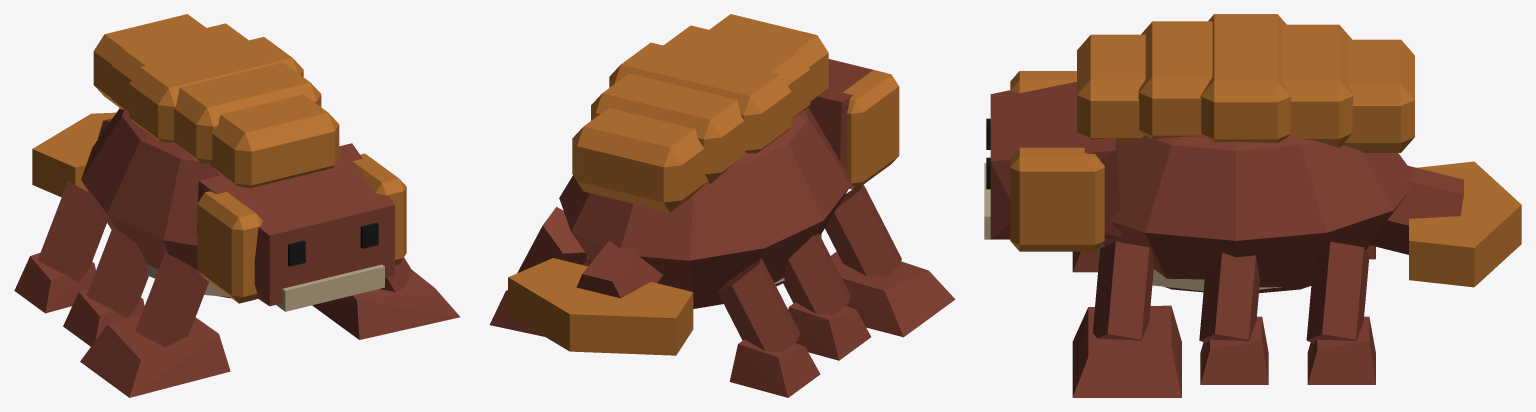
Rendered from hearthol.glb.
3 renders of one model, left to right at view 1: azimuth 30°, elevation 25°; view 2: azimuth 150°, elevation 25°; view 3: azimuth 270°, elevation 25°, orthographic. The views are drawn at different scales.
Visible parts, largest first — view 1: Hearthol; view 2: Hearthol; view 3: Hearthol.
Boxes of the visible parts, box(x1,y1,x2,y2) form: Hearthol: box(14, 14, 460, 397); Hearthol: box(489, 14, 955, 397); Hearthol: box(984, 14, 1521, 397).
Bounding box in the file's own units: 1.05 × 0.72 × 1.34.
